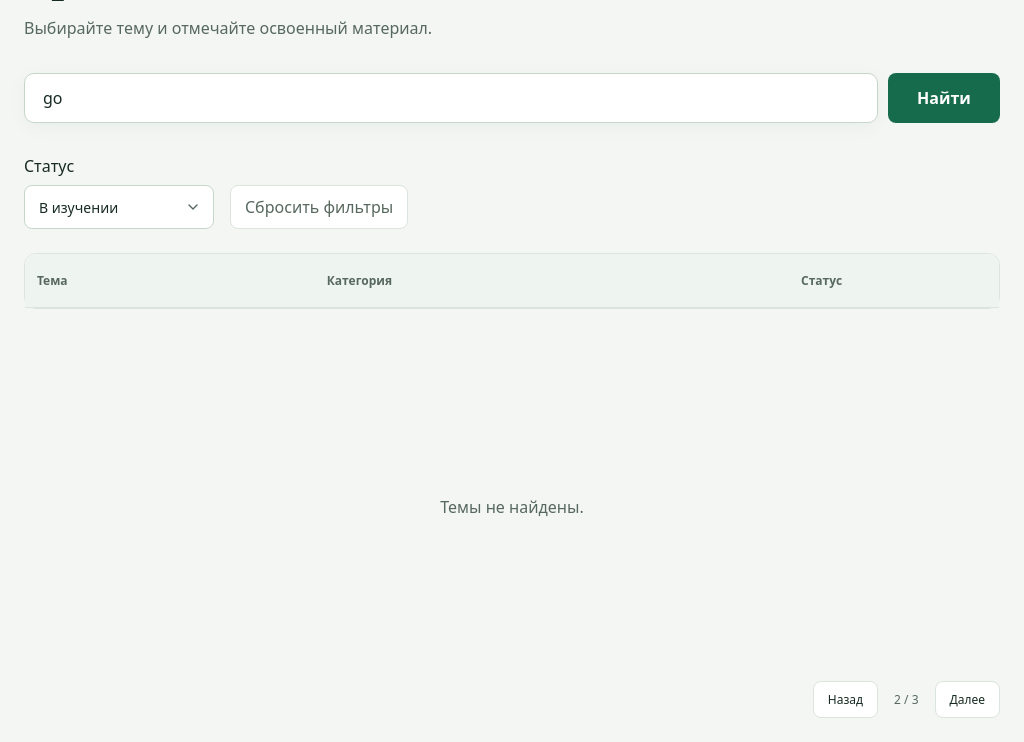
Test: keeps search and status filters when paging and resets the page when filters change
This screenshot has width=1024, height=742.
(page scrolled)
Expected: the text "2 / 3" is shown, [894, 691, 918, 708]
Click the button "Далее" at (967, 700), box [934, 681, 1000, 718]
(page scrolled)
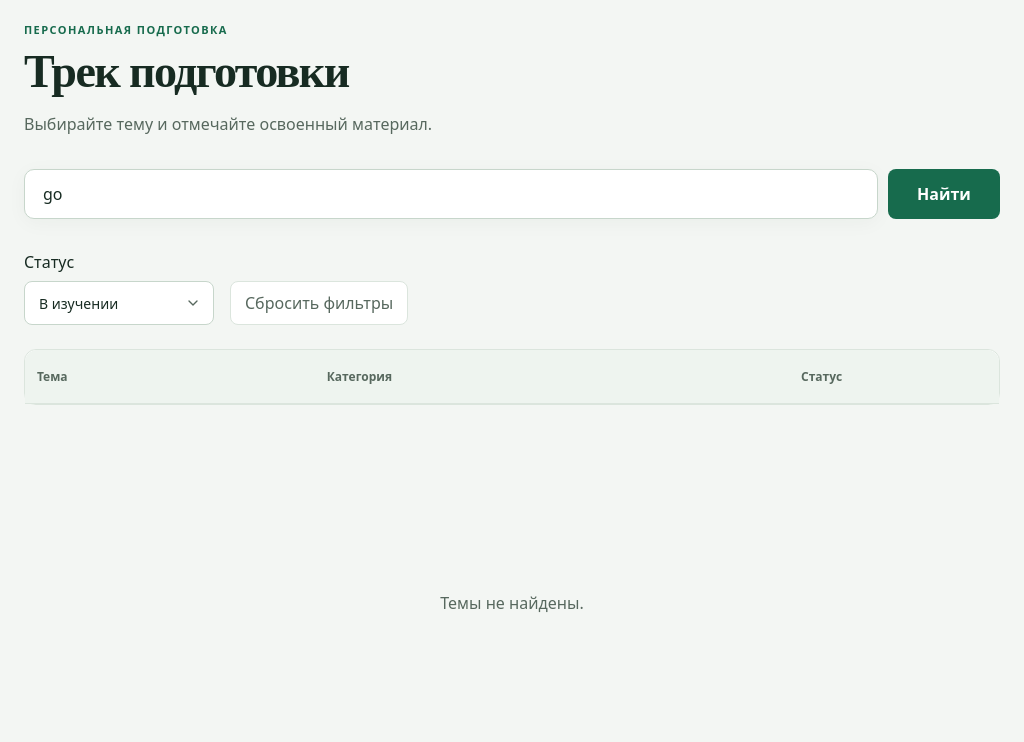
Select "Освоено" in the dropdown labelled "Статус" at (119, 303), box [24, 281, 214, 325]
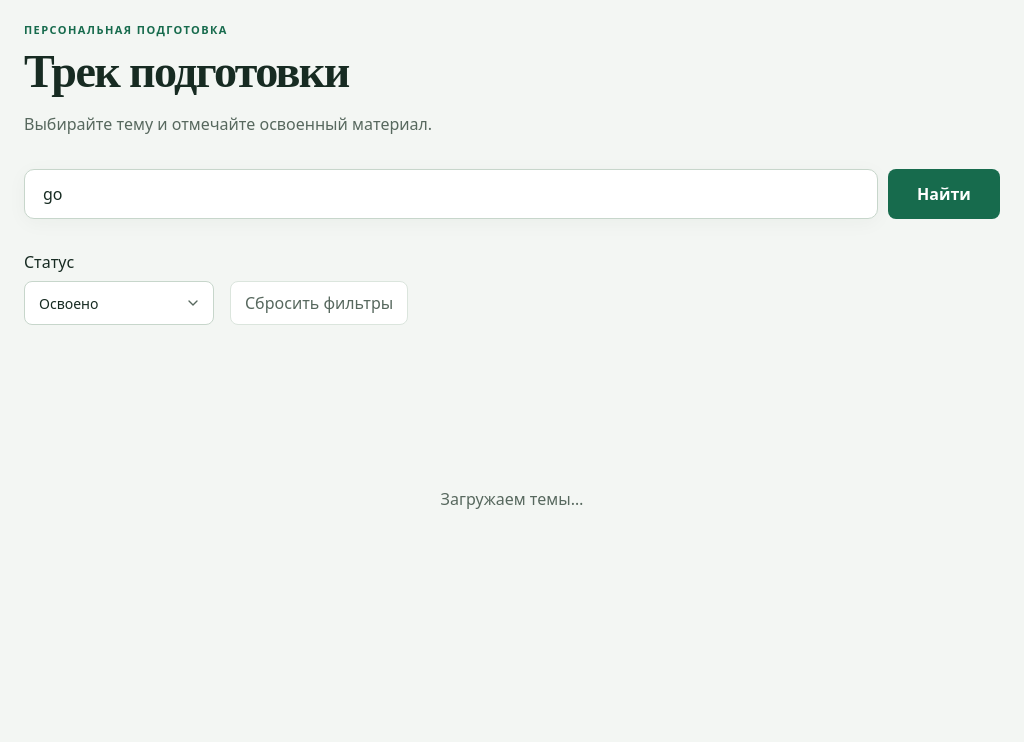
Replace the text in the field labelled "Поиск по темам" with "  channels  " at (451, 194), box [41, 182, 861, 206]
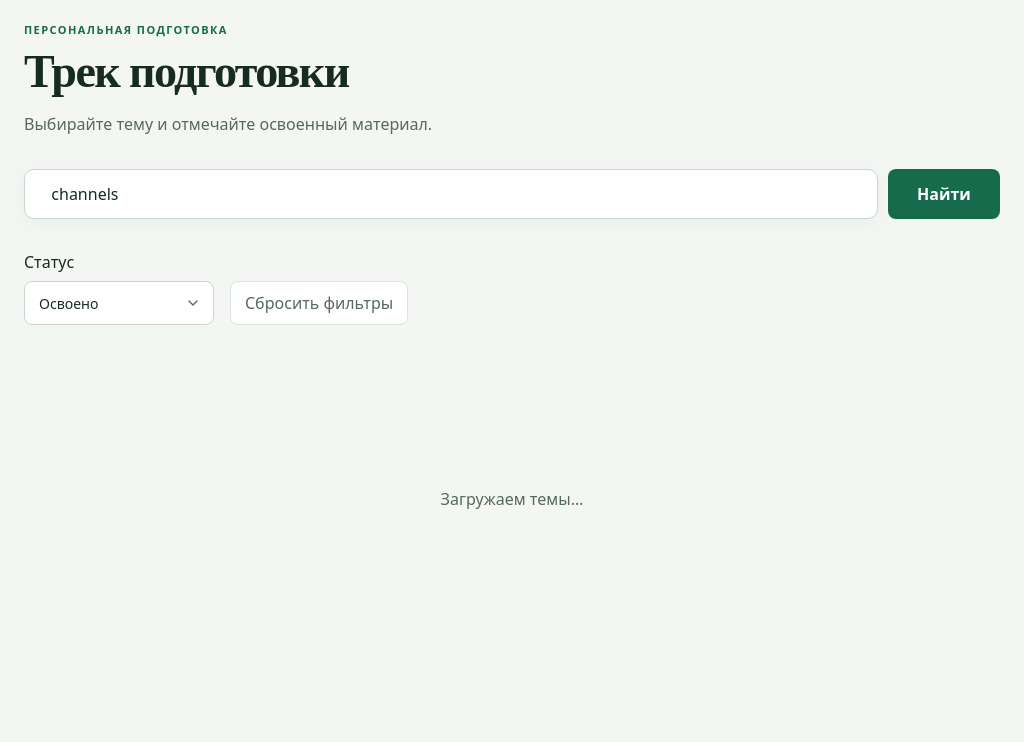
Click the button "Найти" at (944, 194), box [888, 169, 1000, 219]
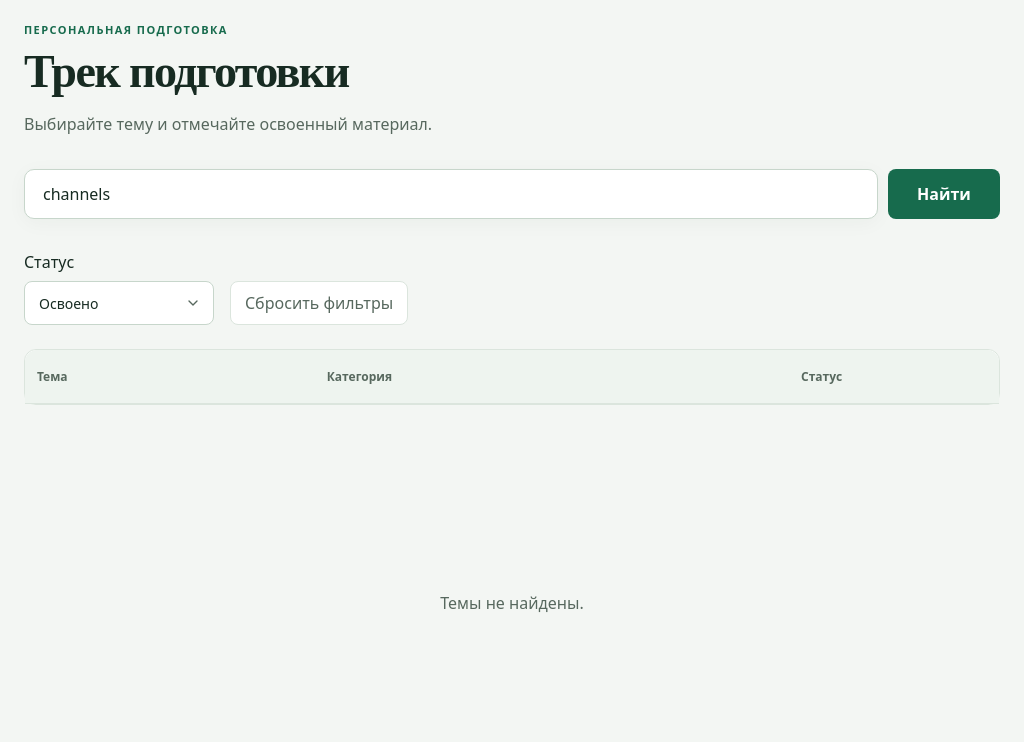
Click the button "Сбросить фильтры" at (319, 303), box [230, 281, 408, 325]
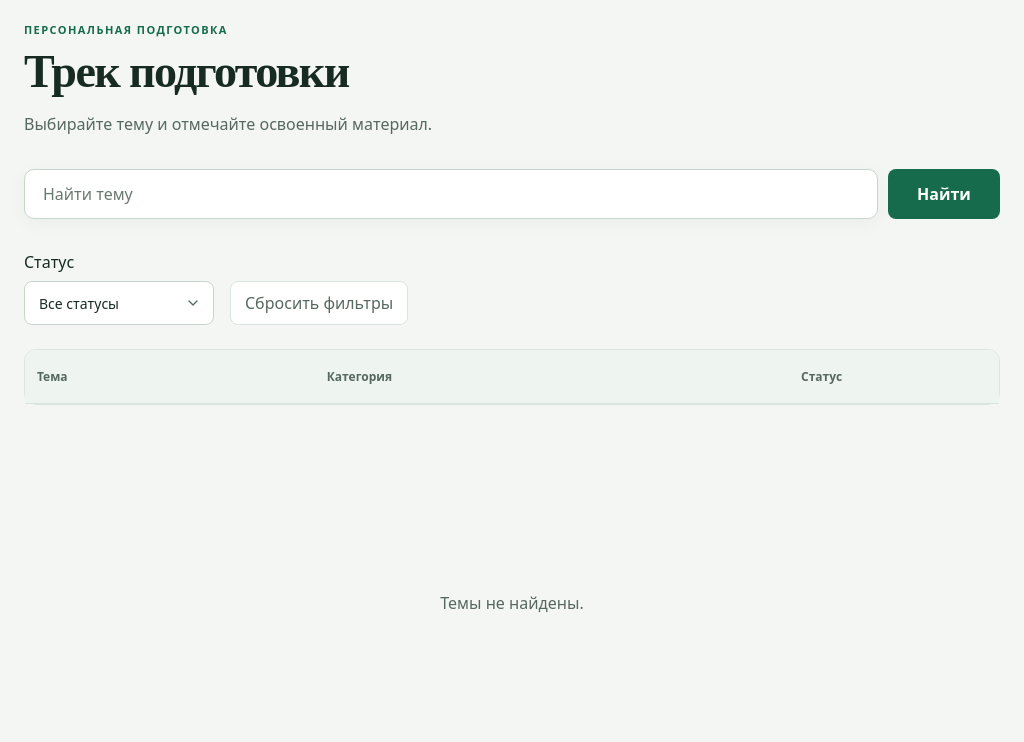
Expected: the field labelled "Поиск по темам" is empty, [41, 182, 861, 206]
